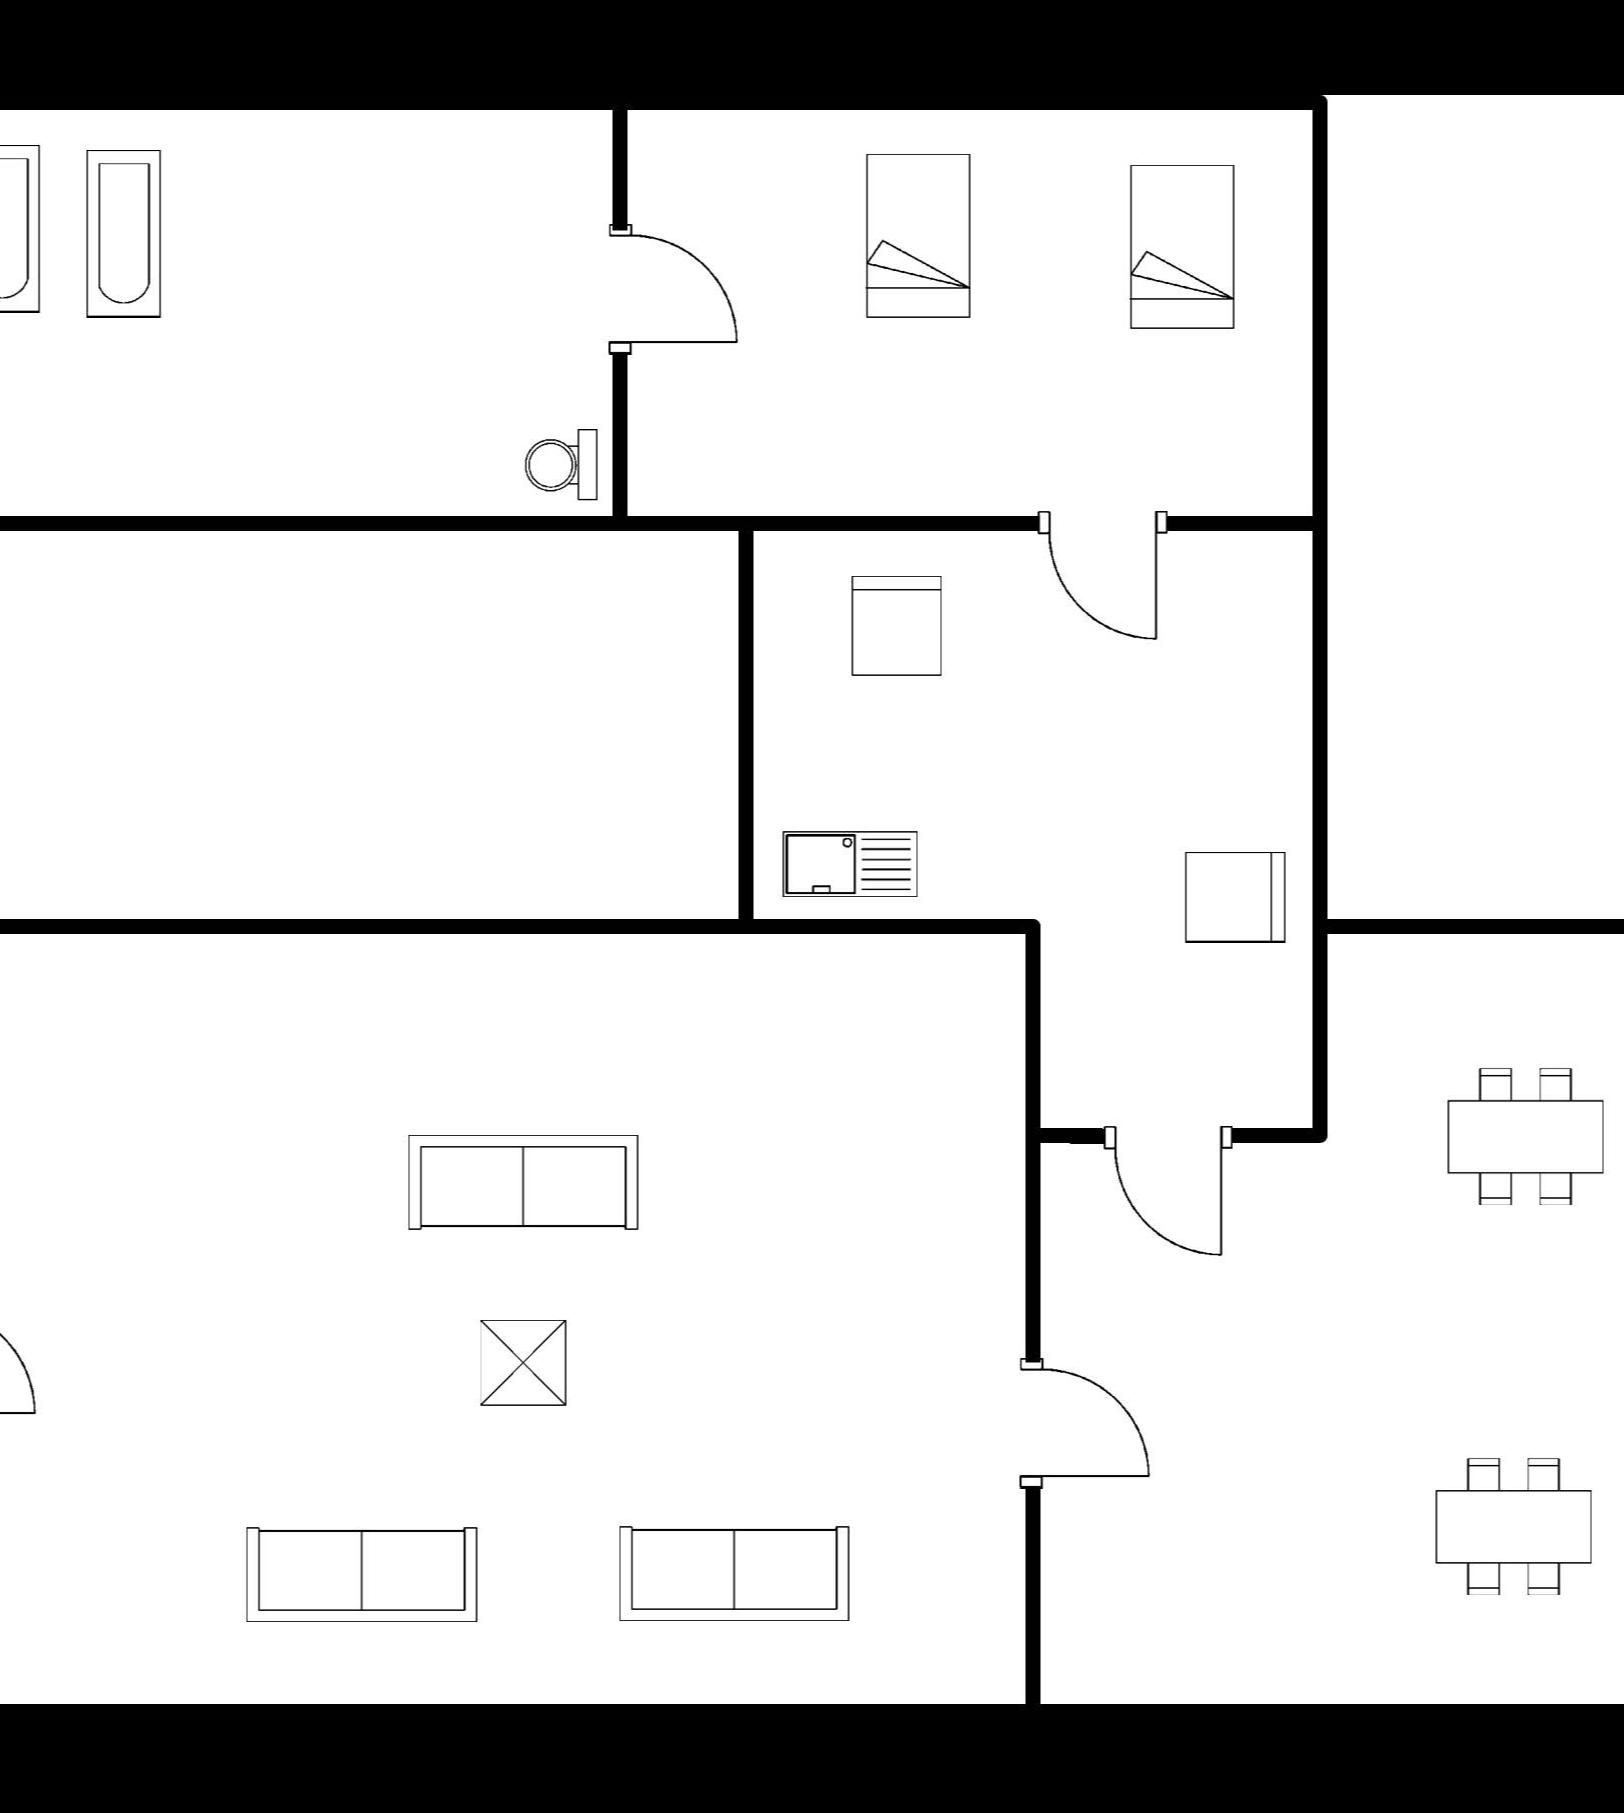bed: (1115, 158, 1243, 345), (856, 143, 980, 332)
dining_table: (1420, 1449, 1604, 1608), (1434, 1056, 1615, 1214)
sink: (771, 815, 925, 907)
sofa: (395, 1117, 649, 1244), (232, 1517, 494, 1637), (605, 1512, 859, 1633)
toilet: (519, 417, 608, 509)
tub: (69, 138, 176, 331), (0, 133, 52, 332)
